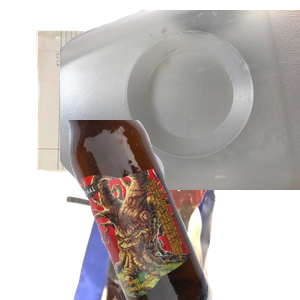glass: (65, 120, 300, 300)
paper: (32, 28, 249, 196)
plastic: (60, 10, 300, 190)
trash: (63, 120, 300, 300)
